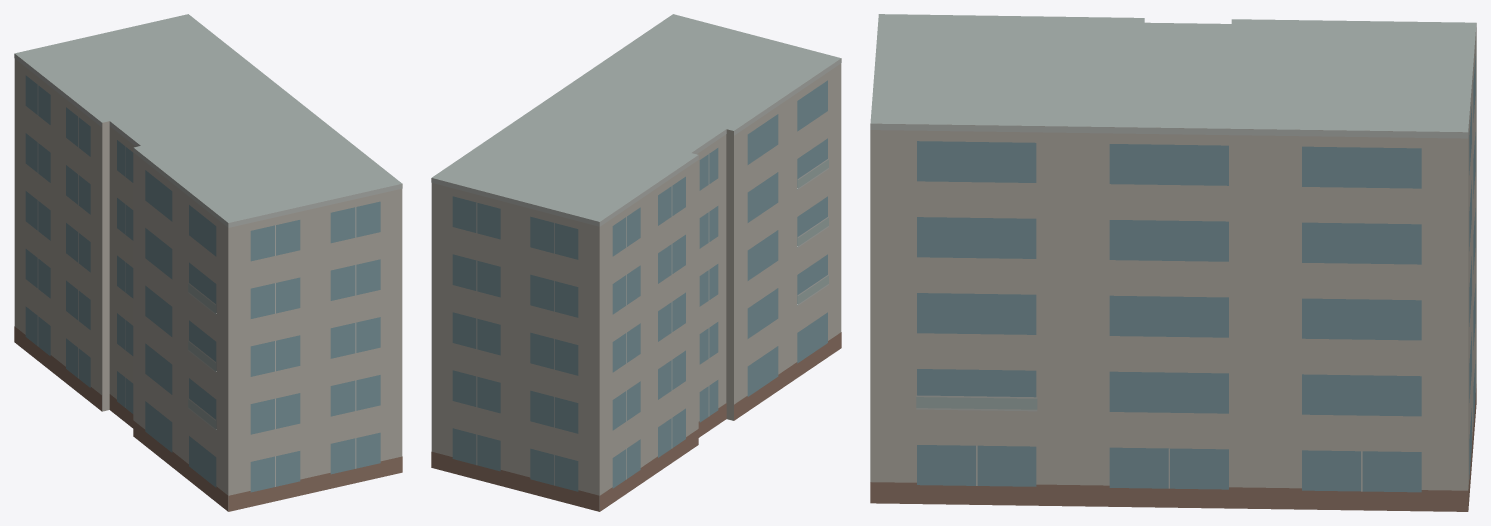
The model's file is survey-upis-32663009.glb.
3 renders of one model, left to right at view 1: azimuth 30°, elevation 25°; view 2: azimuth 150°, elevation 25°; view 3: azimuth 270°, elevation 25°, orthographic. The views are drawn at different scales.
Parts seen in each view (by area): view 1: survey-upis-32663009.tmp; view 2: survey-upis-32663009.tmp; view 3: survey-upis-32663009.tmp.
Boxes of the visible parts, bbox=[...] form: survey-upis-32663009.tmp: bbox=[14, 14, 402, 511]; survey-upis-32663009.tmp: bbox=[431, 14, 841, 511]; survey-upis-32663009.tmp: bbox=[870, 14, 1476, 511].
Size of the model in its own units: 9.69 by 14.5 by 20.99.
